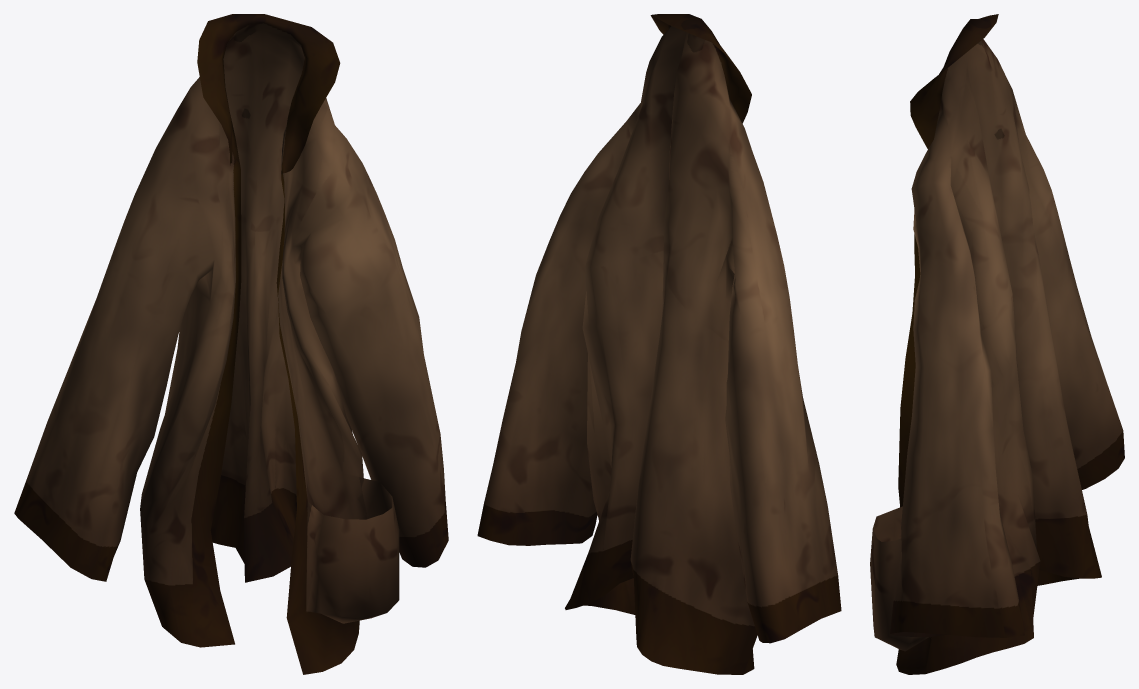
Rendered from coat(textured).fbx.
3 views of the same model, side by side, from view 1: azimuth 30°, elevation 25°; view 2: azimuth 150°, elevation 25°; view 3: azimuth 270°, elevation 25° (orthographic). The views are drawn at different scales.
Parts seen in each view (by area): view 1: coat.001; view 2: coat.001; view 3: coat.001.
Boxes of the visible parts, x1,y1,x2,y2 form: coat.001: [14, 14, 448, 674]; coat.001: [477, 14, 841, 674]; coat.001: [870, 14, 1124, 674].
Bounding box in the file's own units: 361 × 617 × 227.
1 material, 1 textured.
